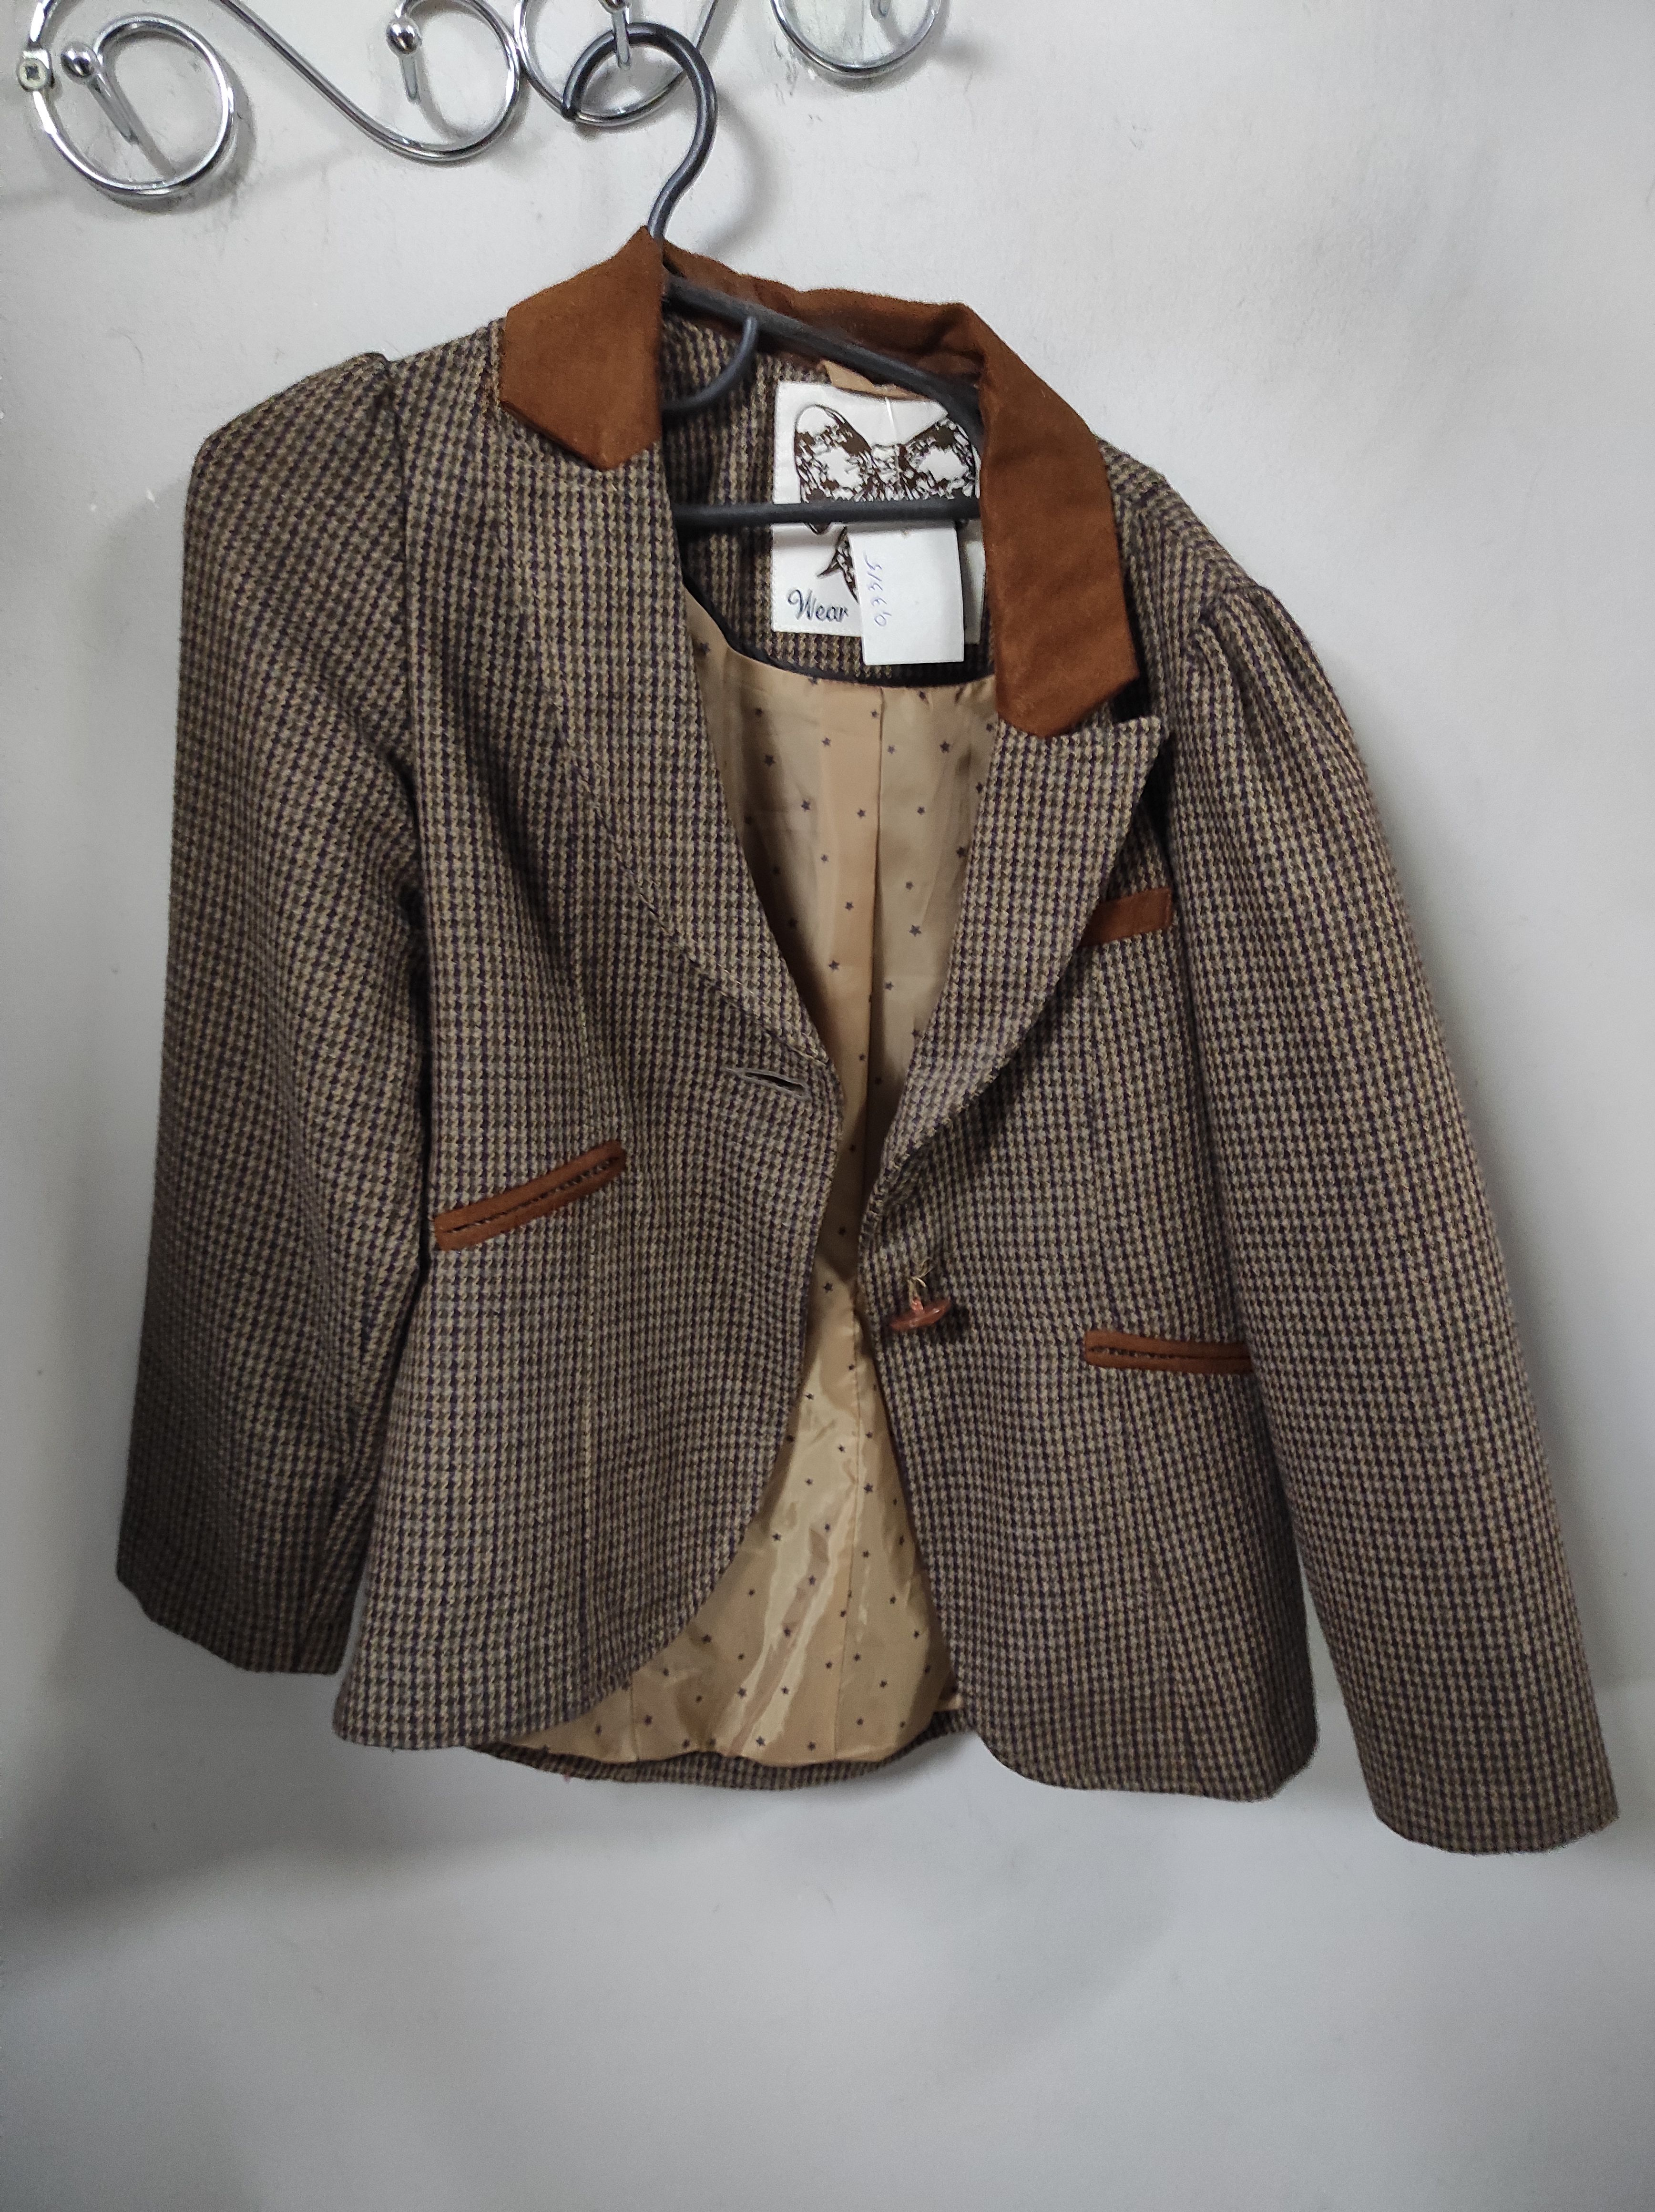clothes: (99, 210, 1655, 1864)
